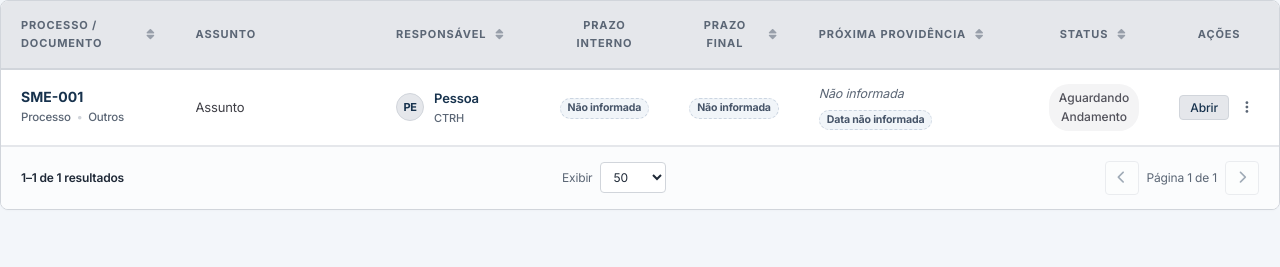
Test: DemandasTable › não oferece exclusão quando o perfil não possui permissão administrativa
The image size is (1280, 267).
Click the button named "mais ações da demanda sme-001" at [1247, 107], box [1235, 95, 1259, 119]
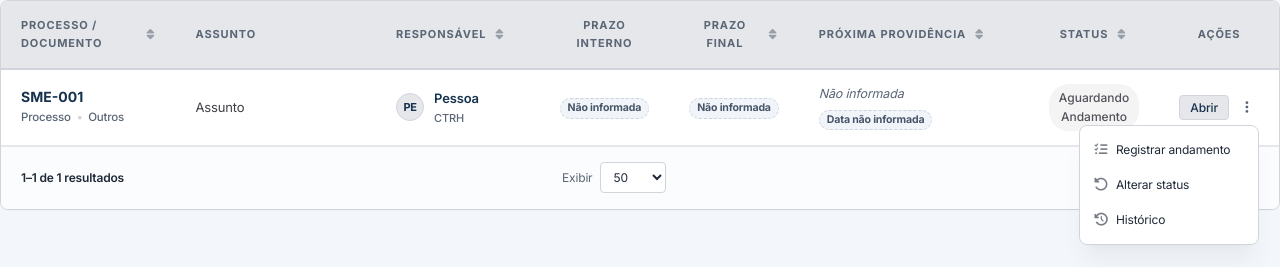
Now the menu item "Alterar status" is shown, box [1094, 177, 1189, 192]
Now the menu item "Histórico" is shown, box [1094, 212, 1165, 227]
